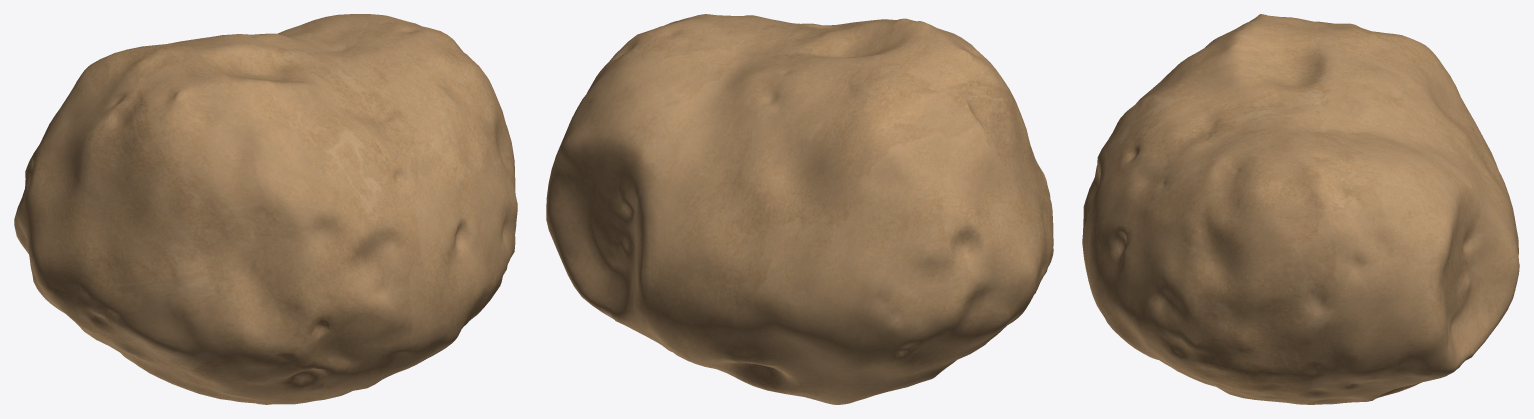
Rendered from Phobos.fbx.
3 views of the same model, side by side, from view 1: azimuth 30°, elevation 25°; view 2: azimuth 150°, elevation 25°; view 3: azimuth 270°, elevation 25° (orthographic). The views are drawn at different scales.
Parts seen in each view (by area): view 1: Phobos; view 2: Phobos; view 3: Phobos.
Part boxes in pixels (bbox=[...]): Phobos: bbox=[14, 14, 517, 404]; Phobos: bbox=[546, 14, 1053, 404]; Phobos: bbox=[1082, 14, 1519, 404].
Size of the model in its own units: 2.62 by 1.96 by 2.36.
Materials: 1 (1 with a texture image).
